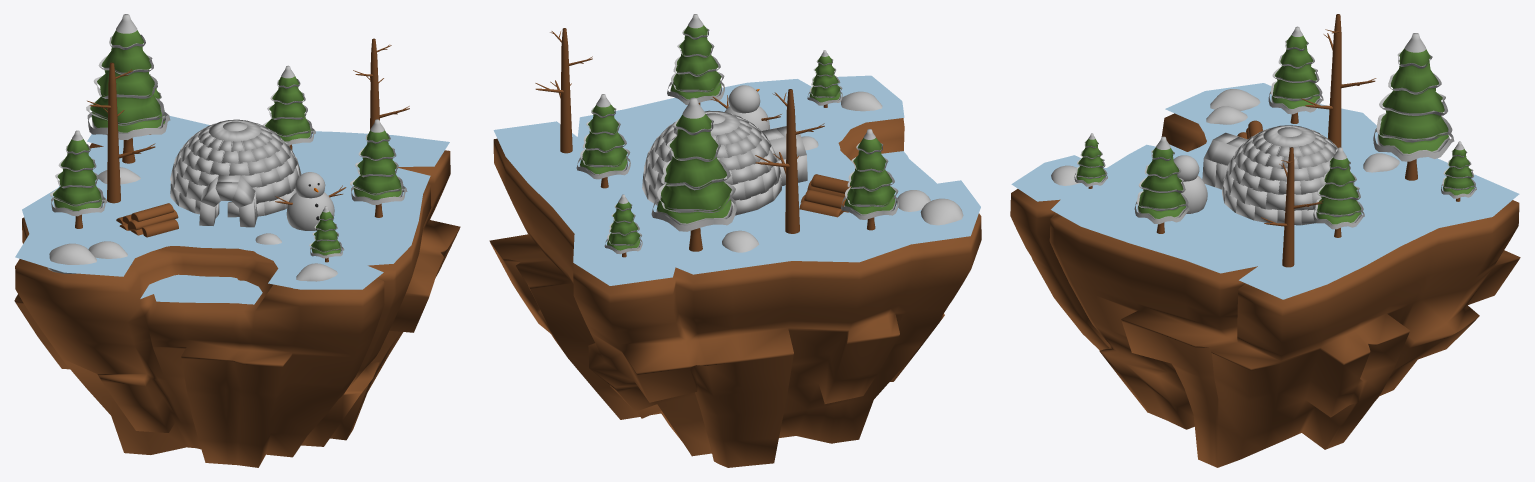
File: Iceberg.glb
3 renders of one model, left to right at view 1: azimuth 30°, elevation 25°; view 2: azimuth 150°, elevation 25°; view 3: azimuth 270°, elevation 25°, orthographic. The views are drawn at different scales.
Visible parts, largest first — view 1: Cube.150, Cube.120, Cylinder.110, Sphere.001, Cylinder.092, Cylinder.118, Cylinder.111, Cylinder.120, Sphere, Sphere.027, Cylinder.123, Sphere.021 (+2 smaller); view 2: Cube.150, Cube.120, Cylinder.110, Sphere.001, Cylinder.092, Cylinder.111, Cylinder.120, Cylinder.123, Cylinder.118, Sphere.027, Sphere.021, Sphere.050 (+2 smaller); view 3: Cube.150, Cube.120, Cylinder.110, Sphere.001, Cylinder.092, Cylinder.118, Cylinder.111, Cylinder.123, Sphere.027, Sphere, Sphere.028, Sphere.025.
Boxes of the visible parts, x1,y1,x2,y2 form: Cube.150: (14, 143, 460, 467); Cube.120: (15, 115, 449, 304); Cylinder.110: (53, 30, 404, 262); Sphere.001: (170, 119, 301, 217); Cylinder.092: (50, 14, 407, 258); Cylinder.118: (199, 174, 257, 227); Cylinder.111: (107, 62, 120, 203); Cylinder.120: (116, 203, 178, 237); Sphere: (286, 192, 334, 230); Sphere.027: (47, 243, 96, 273); Cylinder.123: (370, 38, 379, 129); Sphere.021: (295, 172, 325, 198); Cube.150: (489, 118, 981, 467); Cube.120: (493, 75, 980, 285); Cylinder.110: (579, 25, 895, 257); Sphere.001: (642, 110, 781, 215); Cylinder.092: (576, 14, 898, 254); Cylinder.111: (785, 89, 799, 233); Cylinder.120: (799, 174, 850, 217); Cylinder.123: (560, 28, 572, 153); Cylinder.118: (762, 126, 807, 185); Sphere.027: (920, 198, 963, 225); Sphere.021: (728, 85, 760, 113); Sphere.050: (841, 91, 882, 111); Cube.150: (1010, 113, 1520, 467); Cube.120: (1011, 83, 1519, 299); Cylinder.110: (1076, 35, 1474, 237); Sphere.001: (1222, 125, 1354, 225); Cylinder.092: (1074, 26, 1476, 229); Cylinder.118: (1202, 132, 1247, 189); Cylinder.111: (1328, 14, 1341, 147); Cylinder.123: (1282, 147, 1294, 267); Sphere.027: (1210, 89, 1260, 110); Sphere: (1181, 175, 1207, 213); Sphere.028: (1202, 106, 1247, 130); Sphere.025: (1363, 153, 1399, 172).
Size of the model in its own units: 6.67 by 5.44 by 6.65.
